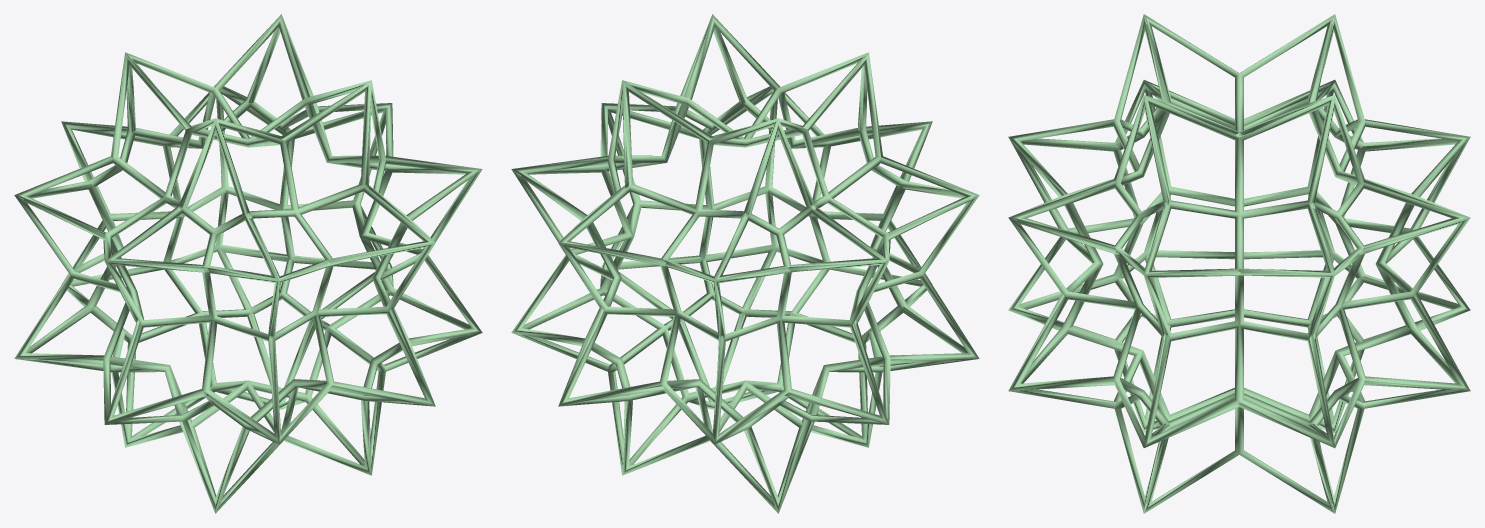
File: RhombicuboctahedronK1.glb
The picture shows the model from 3 angles, left to right: view 1: azimuth 30°, elevation 25°; view 2: azimuth 150°, elevation 25°; view 3: azimuth 270°, elevation 25°; orthographic projection. The views are drawn at different scales.
Visible parts, largest first — view 1: Rhombicuboctahedron; view 2: Rhombicuboctahedron; view 3: Rhombicuboctahedron.
Boxes of the visible parts, x1,y1,x2,y2 form: Rhombicuboctahedron: (14, 14, 482, 513); Rhombicuboctahedron: (511, 14, 979, 513); Rhombicuboctahedron: (1008, 14, 1470, 513).
Bounding box in the file's own units: 2.46 × 2.46 × 2.46.
